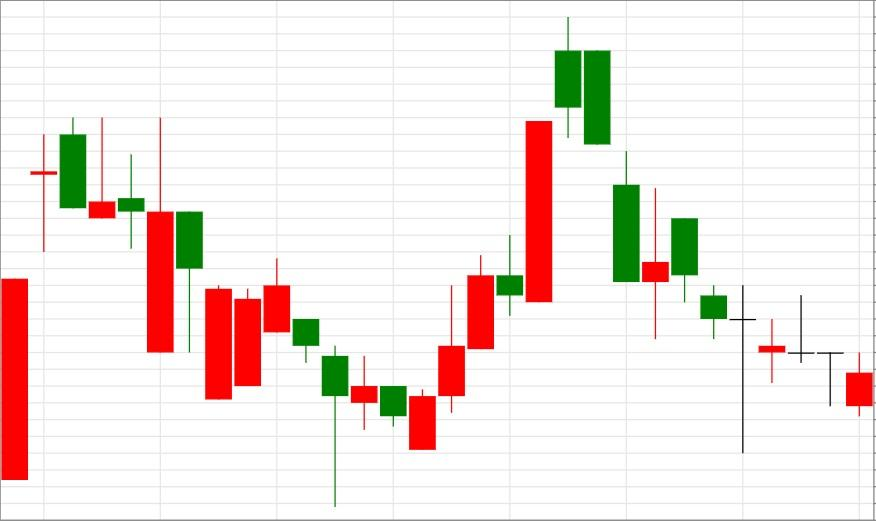three_white_soldiers_rise: (262, 255, 496, 508)
